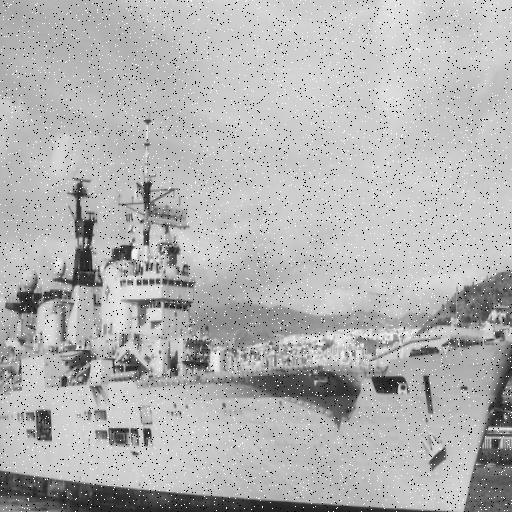Portanaves: (1, 71, 512, 512)
